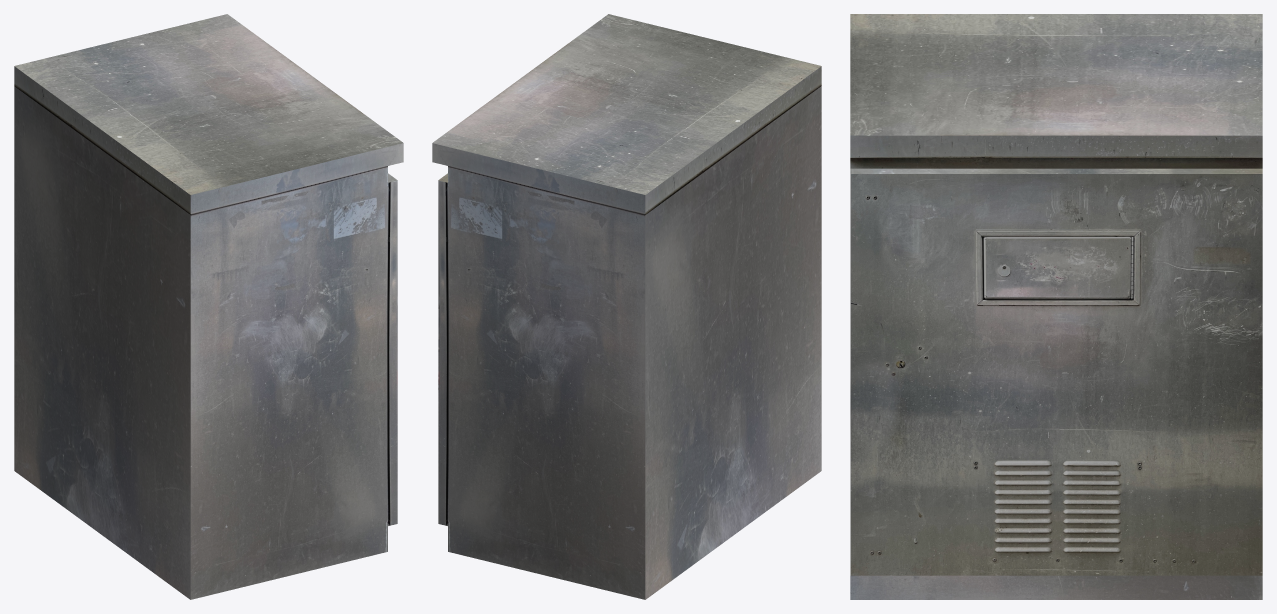
File: chrome_electrical_box.fbx
3 views of the same model, side by side, from view 1: azimuth 30°, elevation 25°; view 2: azimuth 150°, elevation 25°; view 3: azimuth 270°, elevation 25° (orthographic). The views are drawn at different scales.
Visible parts, largest first — view 1: trashcans_electrical_boxes_vis.003; view 2: trashcans_electrical_boxes_vis.003; view 3: trashcans_electrical_boxes_vis.003.
Boxes of the visible parts, bbox=[...] form: trashcans_electrical_boxes_vis.003: bbox=[14, 14, 403, 599]; trashcans_electrical_boxes_vis.003: bbox=[432, 14, 821, 599]; trashcans_electrical_boxes_vis.003: bbox=[850, 14, 1262, 599].
Bounding box in the file's own units: 101 × 183 × 144.
1 material, 1 textured.
